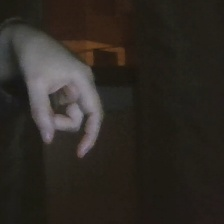Q: (7, 9, 112, 164)
